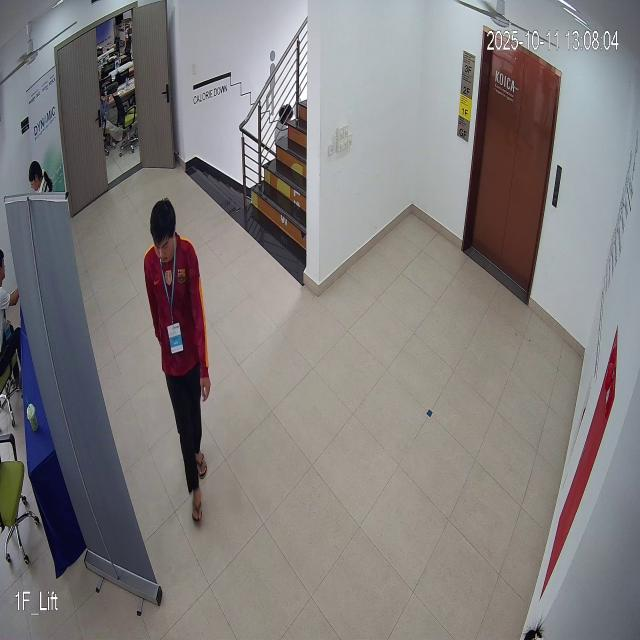face: (145, 194, 184, 267)
